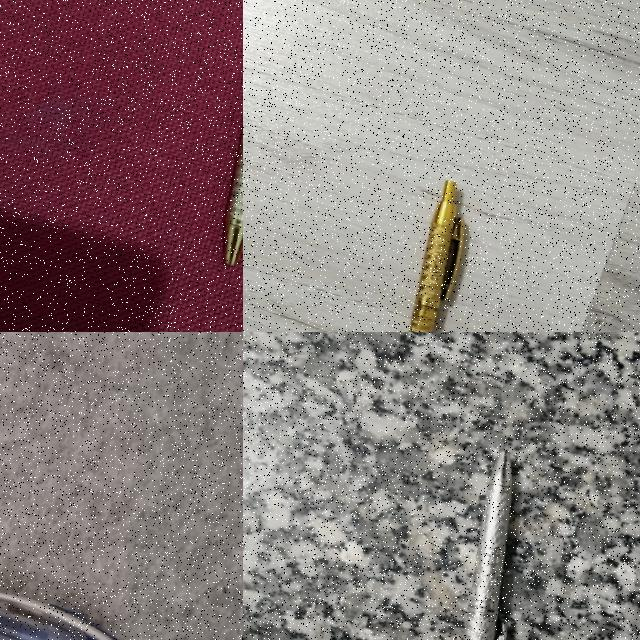pen: (0, 594, 114, 639)
signature pen: (465, 450, 512, 639), (408, 182, 464, 332)
